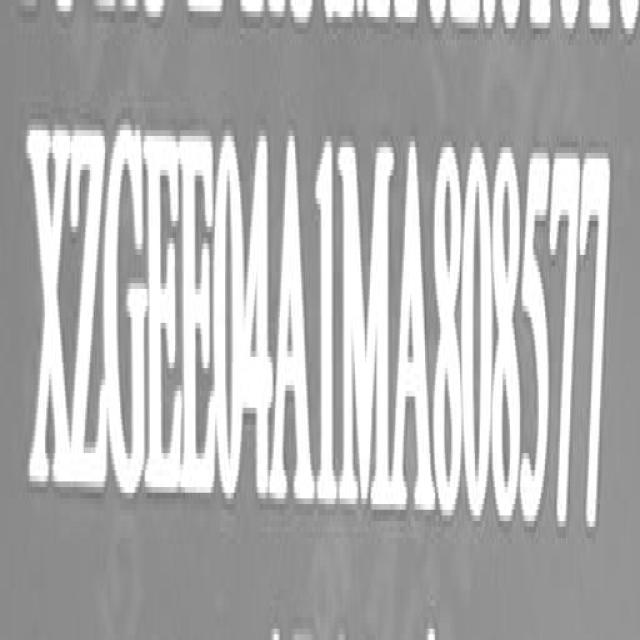0: (460, 142, 491, 525), (214, 130, 244, 497)
1: (310, 136, 340, 514)
4: (241, 123, 274, 499)
5: (520, 142, 555, 534)
7: (583, 148, 617, 539), (551, 145, 584, 536)
8: (428, 140, 467, 519), (491, 148, 524, 532)
A: (272, 130, 314, 512), (392, 136, 434, 517)
E: (143, 118, 184, 501), (181, 124, 218, 504)
G: (106, 121, 149, 503)
M: (338, 140, 397, 512)
X: (30, 120, 73, 496)
Z: (65, 122, 106, 495)
